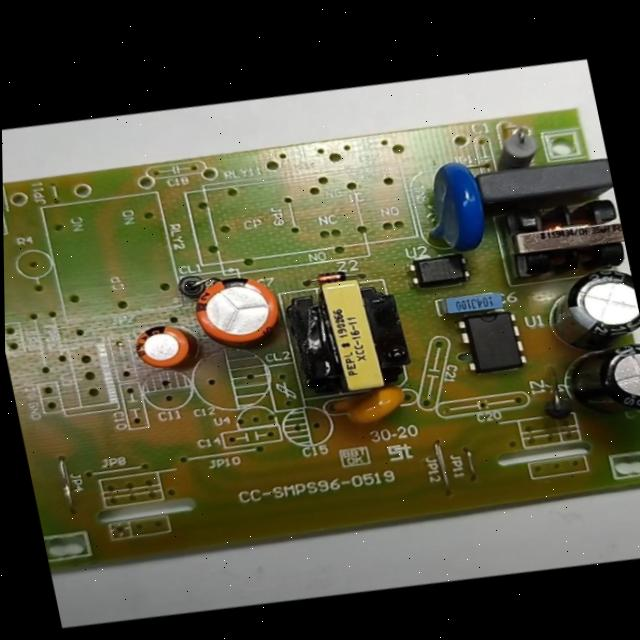Cap1: (182, 264, 294, 360)
Cap2: (129, 315, 204, 379)
Cap3: (537, 258, 640, 361)
Cap4: (559, 336, 640, 425)
MOSFET: (451, 302, 536, 383)
Mov: (405, 148, 497, 262)
Resistor: (486, 119, 547, 175)
Transformer: (278, 261, 421, 411), (499, 187, 631, 291)
